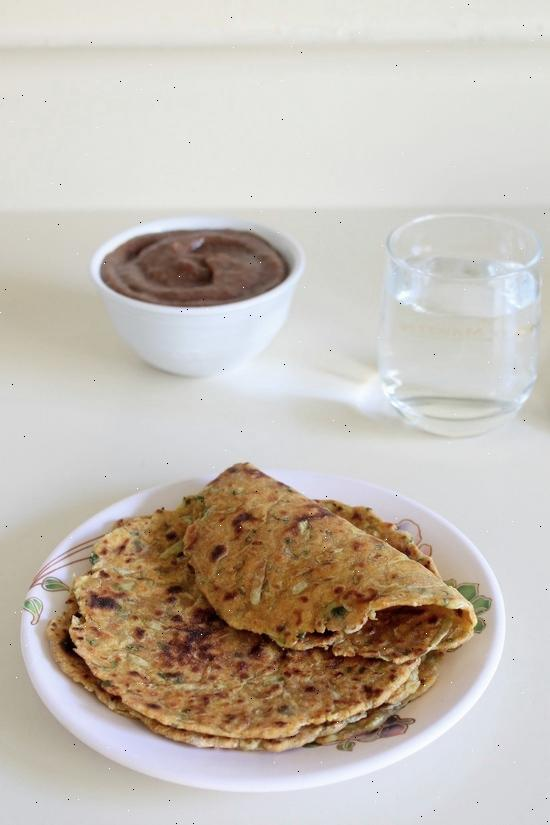thepla: (89, 463, 476, 730)
